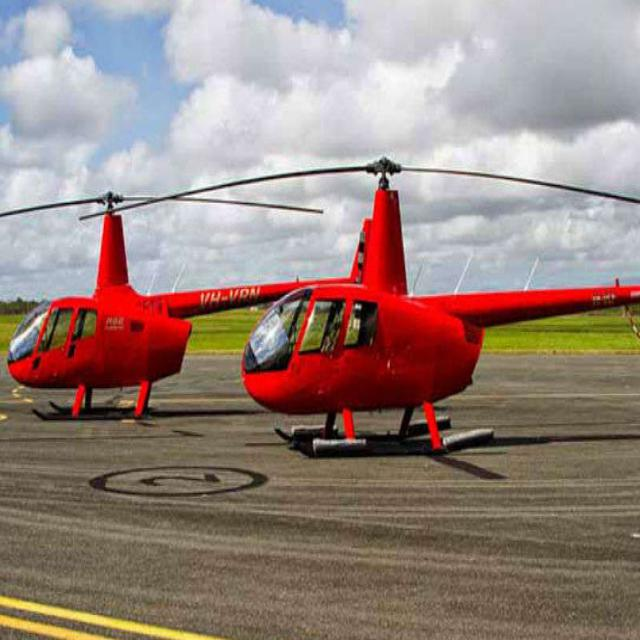helicopter: (125, 154, 640, 461), (1, 188, 344, 407)
